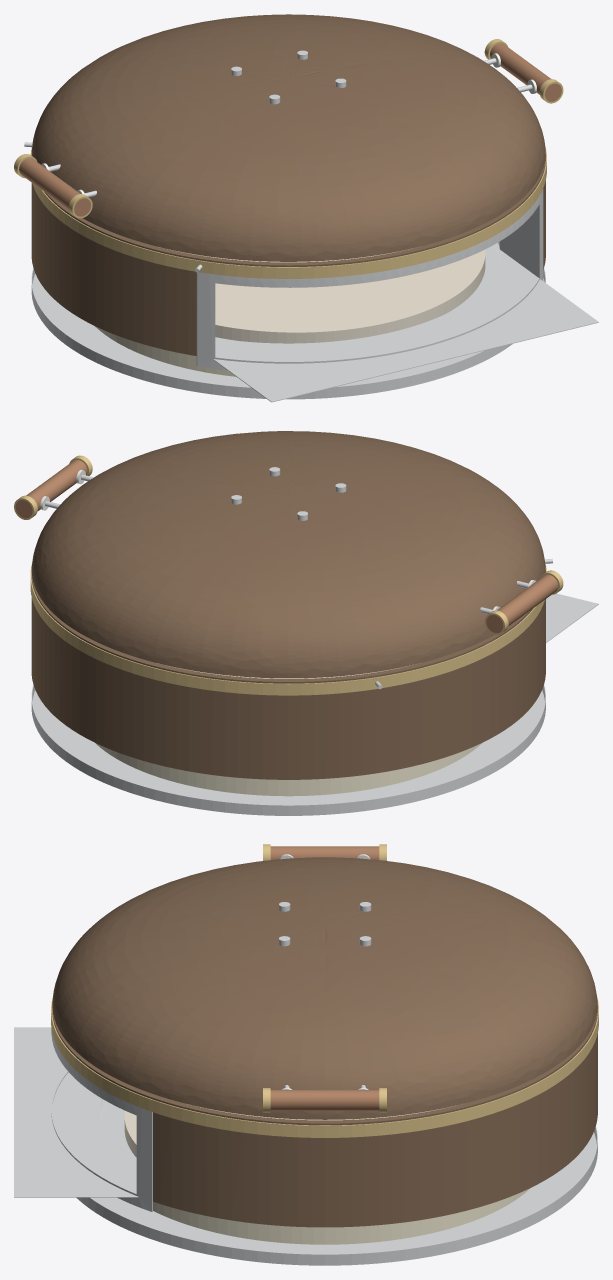
File: morning.glb
3 views of the same model, one above another, from view 1: azimuth 30°, elevation 25°; view 2: azimuth 150°, elevation 25°; view 3: azimuth 270°, elevation 25° (orthographic). The views are drawn at different scales.
Visible parts, largest first — view 1: outer_dome, outer_skirt, mouth_frame, floor_cordierite, peel_landing, cinch_band, base_pan, base_lip, handle_port, handle_starboard, floor_insulation, stone_pan; view 2: outer_dome, outer_skirt, base_pan, cinch_band, base_lip, floor_insulation, handle_port, peel_landing, handle_starboard; view 3: outer_dome, outer_skirt, peel_landing, base_pan, mouth_frame, cinch_band, base_lip, floor_insulation, handle_starboard, handle_port, stone_pan.
Boxes of the visible parts, x1,y1,x2,y2 form: outer_dome: (31,14,545,261); outer_skirt: (31,153,545,355); mouth_frame: (196,189,543,370); floor_cordierite: (215,249,485,343); peel_landing: (213,279,598,402); cinch_band: (30,146,546,278); base_pan: (32,242,544,399); base_lip: (31,267,545,398); handle_port: (19,158,91,216); handle_starboard: (490,43,561,101); floor_insulation: (95,246,499,376); stone_pan: (215,245,499,340); outer_dome: (31,431,545,678); outer_skirt: (31,570,545,779); base_pan: (31,690,545,815); cinch_band: (30,563,546,695); base_lip: (31,684,545,815); floor_insulation: (95,743,481,796); handle_port: (486,574,558,633); peel_landing: (546,593,598,642); handle_starboard: (15,460,87,518); outer_dome: (52,857,597,1119); outer_skirt: (52,1005,597,1227); peel_landing: (14,1027,138,1197); base_pan: (76,1099,597,1265); mouth_frame: (51,1028,152,1211); cinch_band: (51,997,598,1137); base_lip: (77,1126,597,1264); floor_insulation: (101,1102,530,1244); handle_starboard: (270,1090,379,1110); handle_port: (270,846,379,859); stone_pan: (101,1102,136,1162).
Bounding box in the file's own units: 0.6301 × 0.2767 × 0.6129.
